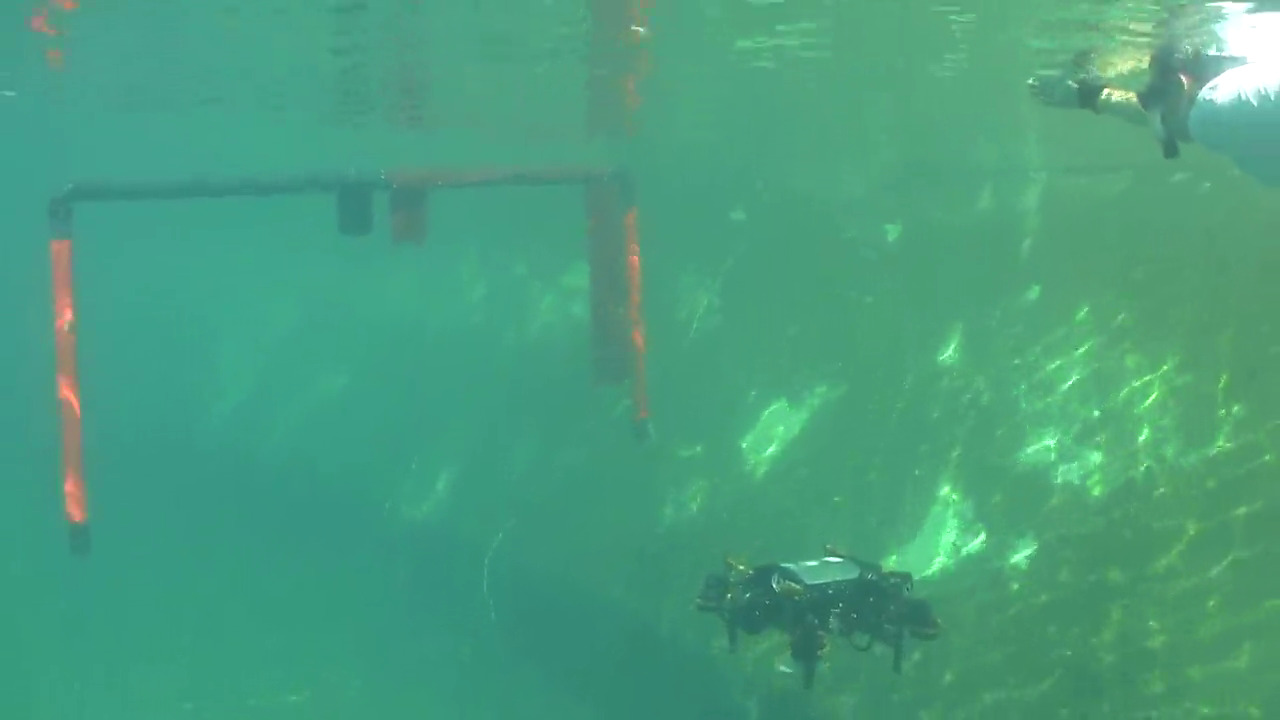gate: (38, 154, 674, 561)
